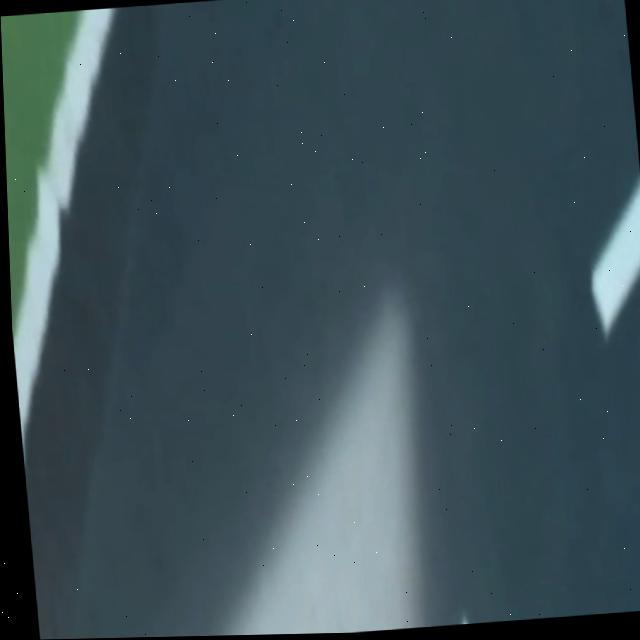center: (593, 182, 640, 337)
right: (13, 8, 113, 452)
